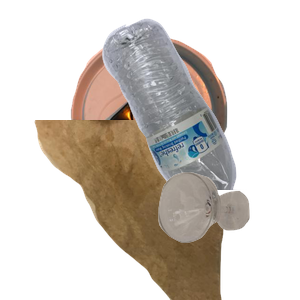glass: (156, 170, 300, 300)
metal: (68, 31, 288, 211)
plastic: (100, 16, 300, 196)
trash: (32, 120, 248, 300)
